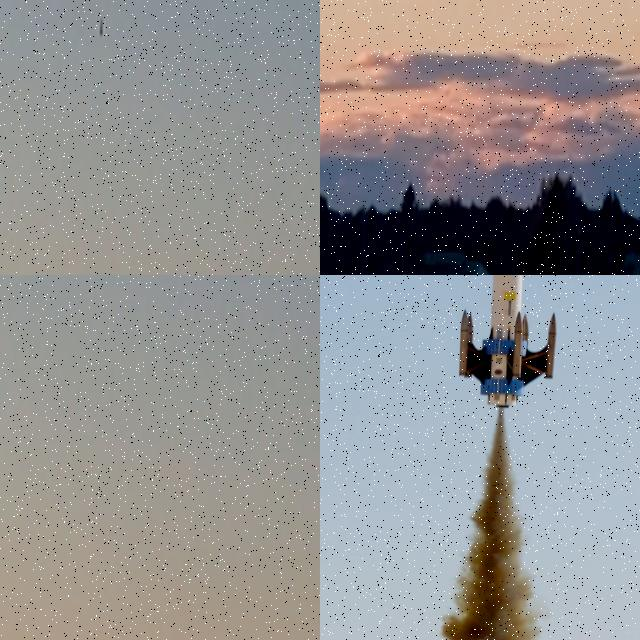Rocket: (455, 275, 559, 411), (99, 16, 104, 36)
